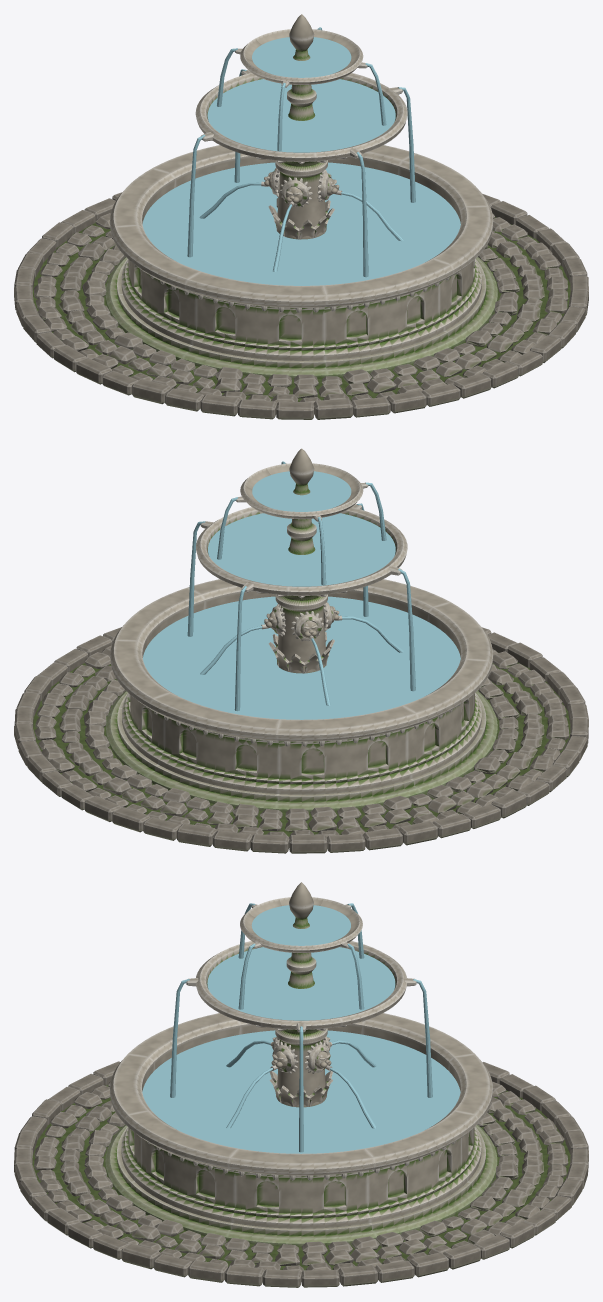
File: ornate_fountain.glb
The picture shows the model from 3 angles, top to bottom: view 1: azimuth 30°, elevation 25°; view 2: azimuth 150°, elevation 25°; view 3: azimuth 270°, elevation 25°; orthographic projection.
Visible parts, largest first — view 1: basin_7, basin_0, basin_6, basin_1, basin_water_5, basin_water_2, basin_water_1, basin_water_6, basin_water_0, basin_water_7, basin_water_4, basin_5 (+46 smaller); view 2: basin_5, basin_4, basin_6, basin_3, basin_water_7, basin_water_2, basin_water_3, basin_water_6, basin_water_4, basin_water_5, basin_water_0, basin_2 (+44 smaller); view 3: basin_2, basin_3, basin_1, basin_water_0, basin_water_4, basin_water_5, basin_water_7, basin_water_3, basin_water_1, basin_4, basin_0, basin_water_2 (+47 smaller).
Boxes of the visible parts, left/top/right/bottom form: basin_7: left=185, top=271, right=326, bottom=360; basin_0: left=323, top=258, right=453, bottom=360; basin_6: left=111, top=225, right=200, bottom=344; basin_1: left=430, top=206, right=493, bottom=330; basin_water_5: left=142, top=188, right=276, bottom=237; basin_water_2: left=326, top=175, right=459, bottom=227; basin_water_1: left=321, top=220, right=460, bottom=266; basin_water_6: left=148, top=230, right=285, bottom=275; basin_water_0: left=305, top=235, right=415, bottom=285; basin_water_7: left=217, top=237, right=319, bottom=285; basin_water_4: left=175, top=162, right=277, bottom=219; basin_5: left=110, top=168, right=174, bottom=293; basin_5: left=277, top=705, right=418, bottom=794; basin_4: left=150, top=692, right=279, bottom=793; basin_6: left=402, top=659, right=491, bottom=778; basin_3: left=110, top=640, right=173, bottom=764; basin_water_7: left=326, top=622, right=460, bottom=671; basin_water_2: left=144, top=609, right=276, bottom=661; basin_water_3: left=142, top=654, right=281, bottom=699; basin_water_6: left=317, top=664, right=455, bottom=709; basin_water_4: left=187, top=669, right=298, bottom=719; basin_water_5: left=284, top=671, right=386, bottom=719; basin_water_0: left=325, top=596, right=427, bottom=653; basin_2: left=112, top=587, right=204, bottom=703; basin_2: left=228, top=1148, right=374, bottom=1228; basin_3: left=365, top=1110, right=478, bottom=1222; basin_1: left=124, top=1110, right=237, bottom=1222; basin_water_0: left=142, top=1071, right=277, bottom=1120; basin_water_4: left=324, top=1071, right=460, bottom=1120; basin_water_5: left=325, top=1034, right=448, bottom=1092; basin_water_7: left=154, top=1034, right=277, bottom=1092; basin_water_3: left=311, top=1101, right=439, bottom=1149; basin_water_1: left=163, top=1101, right=291, bottom=1149; basin_4: left=449, top=1054, right=492, bottom=1181; basin_0: left=110, top=1054, right=153, bottom=1180; basin_water_2: left=249, top=1106, right=353, bottom=1153.
Bounding box in the file's own units: 5.05 × 2.76 × 5.05.
Materials: 4 (4 with a texture image).
